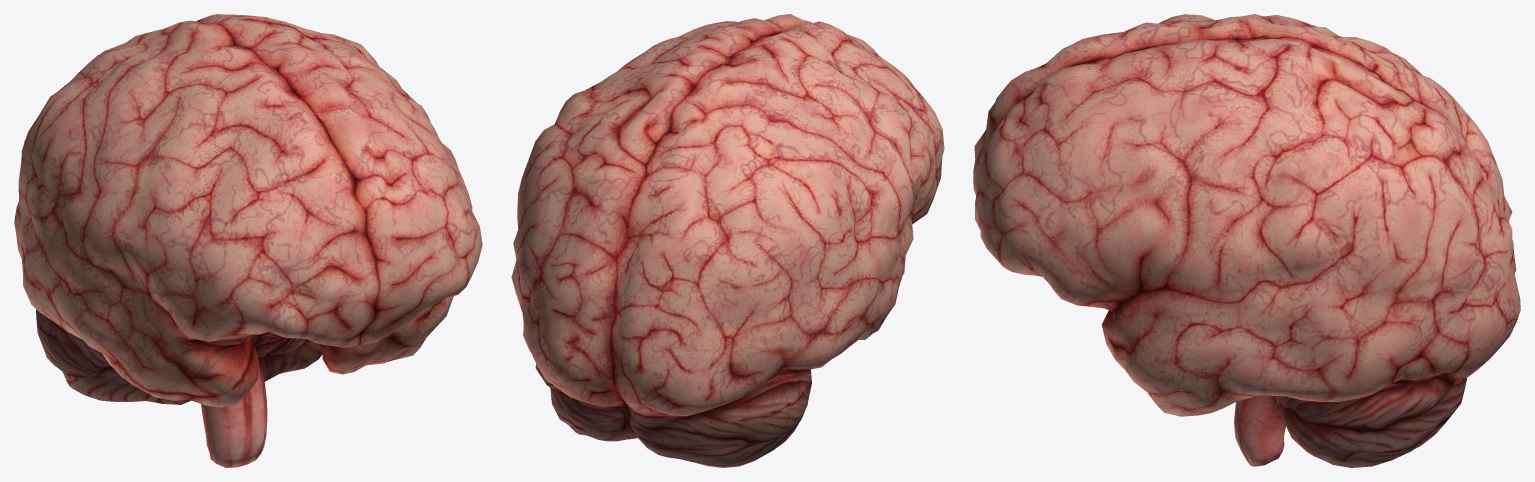
Rendered from brain.glb.
The picture shows the model from 3 angles, left to right: view 1: azimuth 30°, elevation 25°; view 2: azimuth 150°, elevation 25°; view 3: azimuth 270°, elevation 25°; orthographic projection. The views are drawn at different scales.
Visible parts, largest first — view 1: node_id60; view 2: node_id60; view 3: node_id60.
Boxes of the visible parts, <box> form: node_id60: <box>14,14,482,467</box>; node_id60: <box>511,14,944,467</box>; node_id60: <box>973,14,1520,467</box>.
Bounding box in the file's own units: 0.4558 × 0.512 × 0.5937.
1 material, 1 textured.
